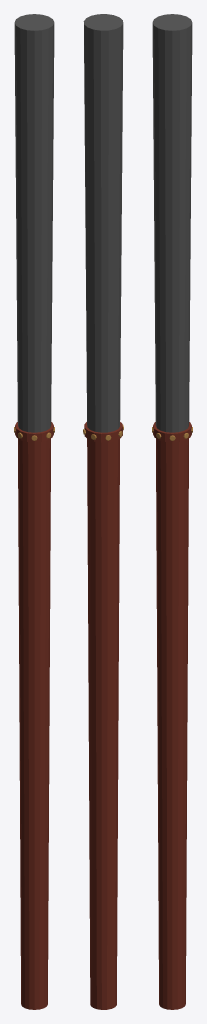
The model's file is Lever_Top.fbx.
The picture shows the model from 3 angles, left to right: view 1: azimuth 90°, elevation 25°; view 2: azimuth 150°, elevation 25°; view 3: azimuth 270°, elevation 25°; orthographic projection.
Visible parts, largest first — view 1: Cylinder.096; view 2: Cylinder.096; view 3: Cylinder.096.
Part boxes in pixels (x1,y1,x2,y2): Cylinder.096: (14, 14, 54, 1009); Cylinder.096: (83, 14, 123, 1009); Cylinder.096: (152, 14, 192, 1009).
Bounding box in the file's own units: 4.89 × 129 × 4.88.
